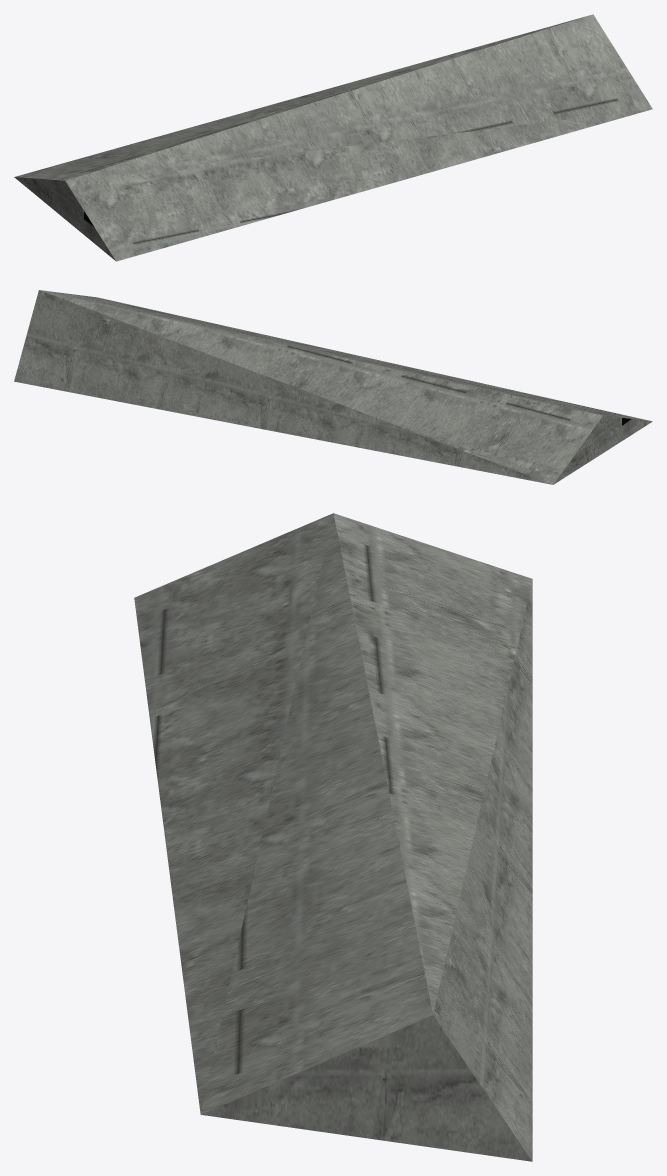
The model's file is StairFlight_LOD2.fbx.
3 renders of one model, top to bottom at view 1: azimuth 30°, elevation 25°; view 2: azimuth 150°, elevation 25°; view 3: azimuth 270°, elevation 25°, orthographic. The views are drawn at different scales.
Parts seen in each view (by area): view 1: StairFlight.001; view 2: StairFlight.001; view 3: StairFlight.001.
Part boxes in pixels (x1,y1,x2,y2): StairFlight.001: (14, 14, 652, 261); StairFlight.001: (14, 290, 652, 484); StairFlight.001: (134, 513, 532, 1161).
Bounding box in the file's own units: 3 × 0.39 × 0.96.
1 material, 1 textured.
